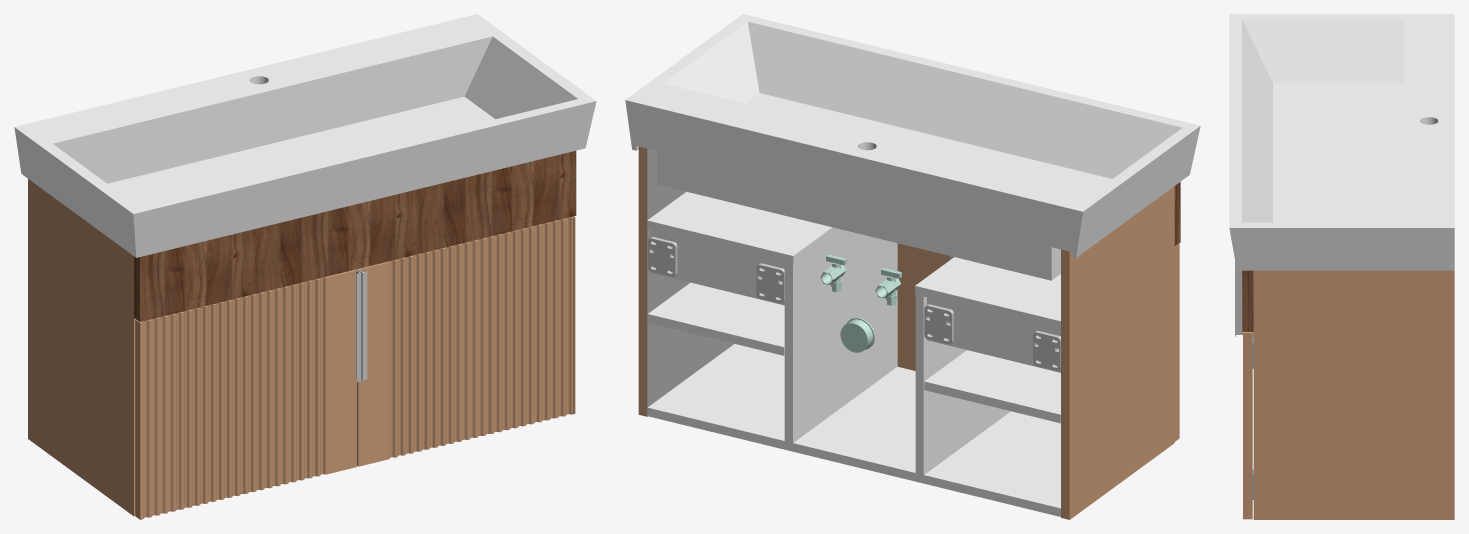
The model's file is Locker.glb.
The picture shows the model from 3 angles, left to right: view 1: azimuth 30°, elevation 25°; view 2: azimuth 150°, elevation 25°; view 3: azimuth 270°, elevation 25°; orthographic projection. The views are drawn at different scales.
Parts seen in each view (by area): view 1: Shape_IndexedFaceSet.187, Shape_IndexedFaceSet.201, Shape_IndexedFaceSet.090, Shape_IndexedFaceSet.149, Shape_IndexedFaceSet.067, Shape_IndexedFaceSet.031, Shape_IndexedFaceSet.066, Shape_IndexedFaceSet.064, Shape_IndexedFaceSet.182, Shape_IndexedFaceSet.196, Shape_IndexedFaceSet.032, Shape_IndexedFaceSet.065 (+3 smaller); view 2: Shape_IndexedFaceSet.025, Shape_IndexedFaceSet.149, Shape_IndexedFaceSet.026, Shape_IndexedFaceSet.125, Shape_IndexedFaceSet.066, Shape_IndexedFaceSet.136, Shape_IndexedFaceSet.131, Shape_IndexedFaceSet.140, Shape_IndexedFaceSet.064, Shape_IndexedFaceSet.144, Shape_IndexedFaceSet.155, Shape_IndexedFaceSet.116 (+21 smaller); view 3: Shape_IndexedFaceSet.130, Shape_IndexedFaceSet.064, Shape_IndexedFaceSet.066, Shape_IndexedFaceSet.024, Shape_IndexedFaceSet.027, Shape_IndexedFaceSet.026, Shape_IndexedFaceSet.199, Shape_IndexedFaceSet.082, Shape_IndexedFaceSet.194.
Part boxes in pixels (x1,y1,x2,y2): Shape_IndexedFaceSet.187: (142, 277, 356, 518); Shape_IndexedFaceSet.201: (388, 217, 572, 459); Shape_IndexedFaceSet.090: (140, 150, 576, 321); Shape_IndexedFaceSet.149: (28, 179, 133, 516); Shape_IndexedFaceSet.067: (53, 36, 492, 183); Shape_IndexedFaceSet.031: (133, 101, 596, 257); Shape_IndexedFaceSet.066: (15, 14, 595, 213); Shape_IndexedFaceSet.064: (107, 96, 494, 206); Shape_IndexedFaceSet.182: (327, 270, 356, 474); Shape_IndexedFaceSet.196: (358, 263, 388, 466); Shape_IndexedFaceSet.032: (14, 127, 136, 257); Shape_IndexedFaceSet.065: (464, 36, 577, 119); Shape_IndexedFaceSet.025: (625, 100, 1082, 280); Shape_IndexedFaceSet.149: (1069, 186, 1174, 519); Shape_IndexedFaceSet.026: (748, 21, 1182, 178); Shape_IndexedFaceSet.125: (648, 344, 1060, 508); Shape_IndexedFaceSet.066: (626, 14, 1200, 211); Shape_IndexedFaceSet.136: (793, 229, 897, 442); Shape_IndexedFaceSet.131: (647, 148, 734, 416); Shape_IndexedFaceSet.140: (647, 191, 831, 255); Shape_IndexedFaceSet.064: (745, 93, 1111, 189); Shape_IndexedFaceSet.144: (915, 257, 1060, 321); Shape_IndexedFaceSet.155: (923, 296, 1010, 474); Shape_IndexedFaceSet.116: (648, 282, 784, 346); Shape_IndexedFaceSet.130: (1253, 270, 1454, 519); Shape_IndexedFaceSet.064: (1273, 83, 1403, 222); Shape_IndexedFaceSet.066: (1229, 14, 1454, 227); Shape_IndexedFaceSet.024: (1229, 228, 1454, 270); Shape_IndexedFaceSet.027: (1242, 19, 1403, 82); Shape_IndexedFaceSet.026: (1242, 20, 1272, 222); Shape_IndexedFaceSet.199: (1243, 333, 1252, 519); Shape_IndexedFaceSet.082: (1242, 270, 1253, 331); Shape_IndexedFaceSet.194: (1235, 261, 1253, 338).
Size of the model in its own units: 1 by 0.65 by 0.445.
Materials: 29 (11 with a texture image).
